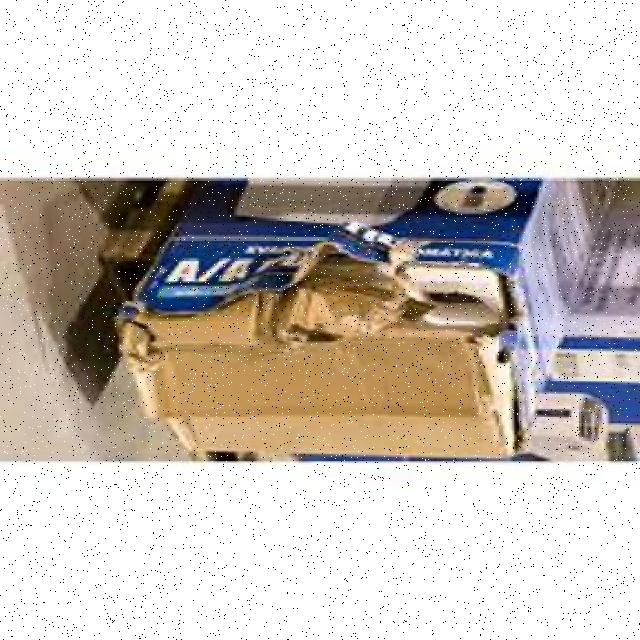defect: (115, 287, 523, 458)
